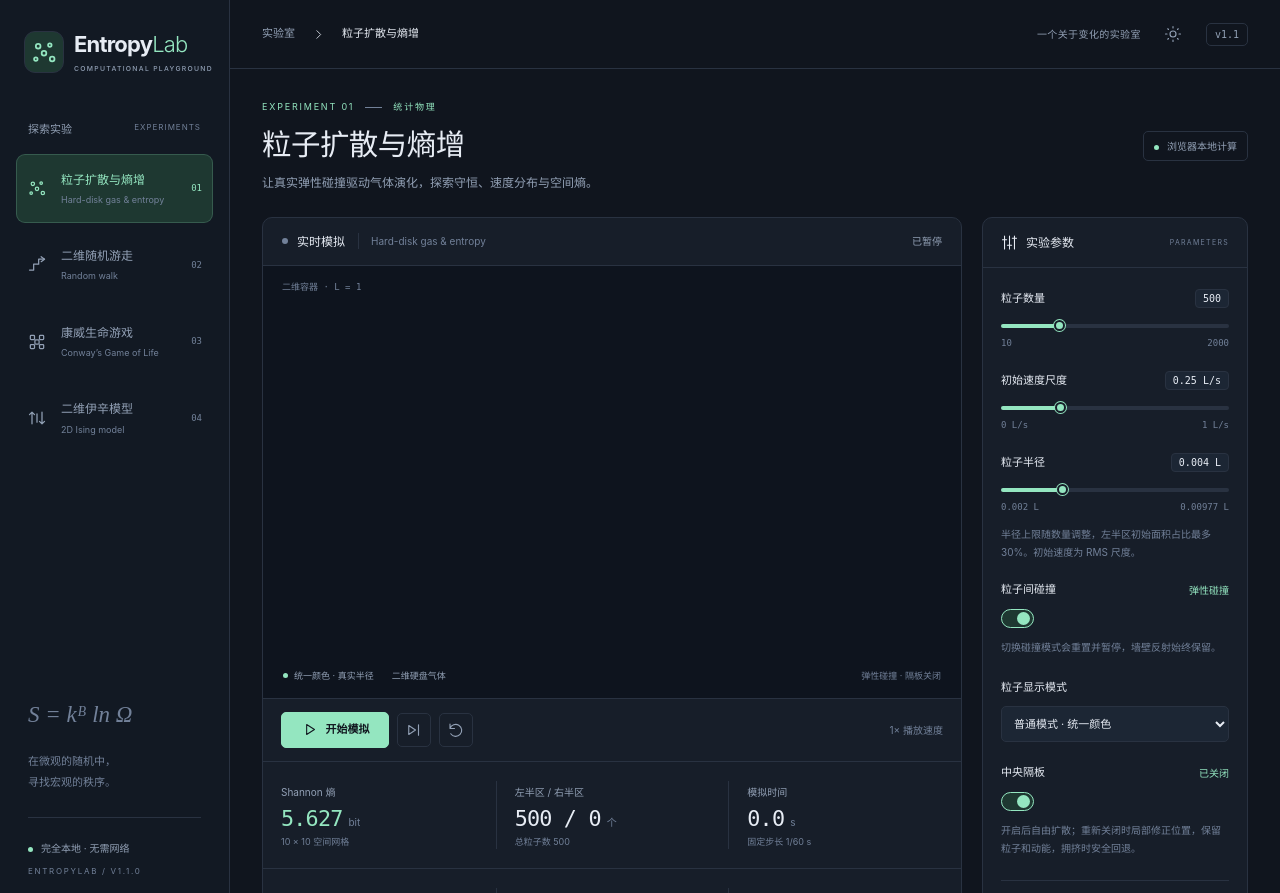
Scenario: application interaction › switches theme and stores the preference; experiments switch cleanly
Click the button named "切换浅色主题". click: {"x": 1173, "y": 34}
box: top-left (1158, 18), bottom-right (1189, 50)
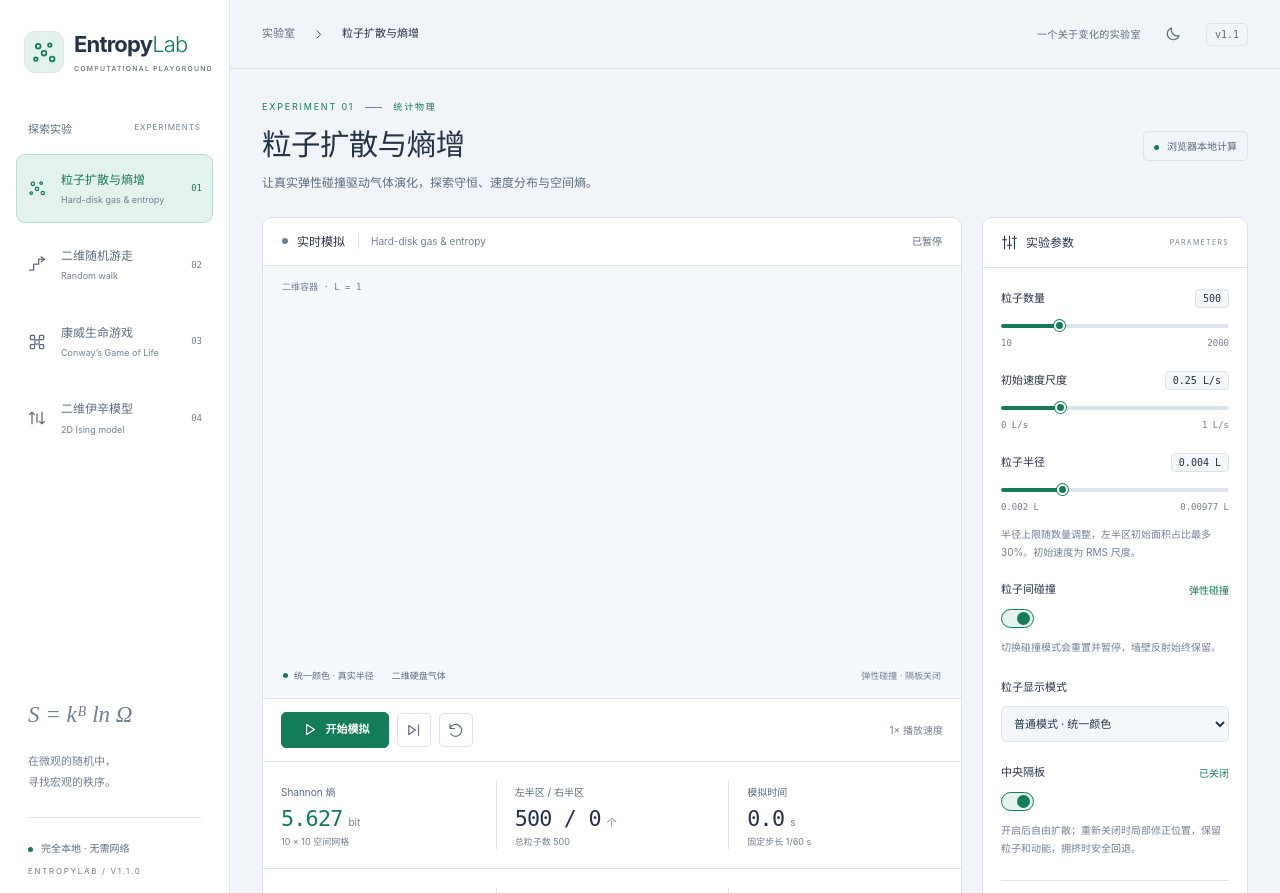
Click the button "二维随机游走 Random walk 02". click: {"x": 114, "y": 265}
box: top-left (16, 230), bottom-right (213, 300)
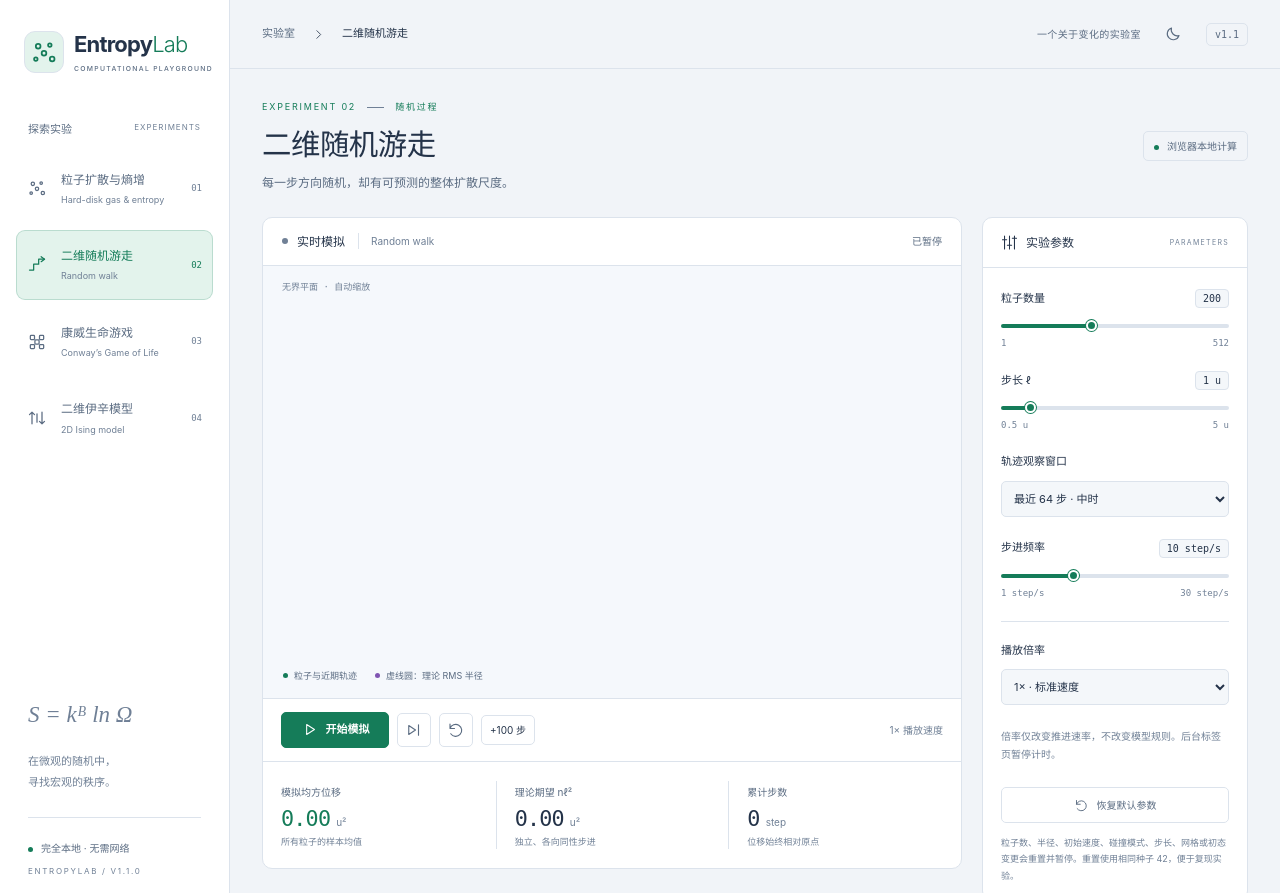
Click the button "开始模拟". click: {"x": 335, "y": 730}
box: top-left (281, 712), bottom-right (389, 748)
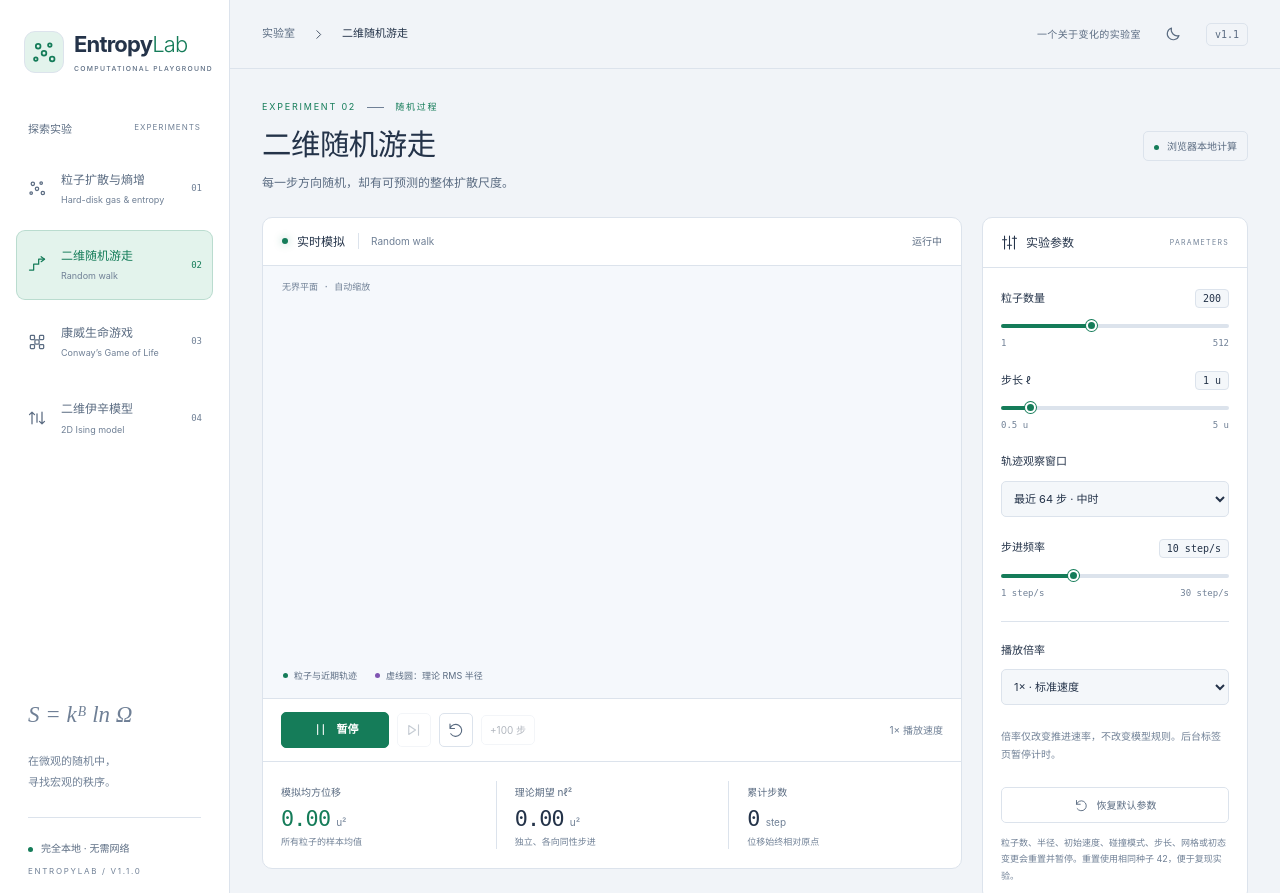
Click the button "粒子扩散与熵增 Hard-disk gas & entropy 01". click: {"x": 114, "y": 188}
box: top-left (16, 154), bottom-right (213, 223)
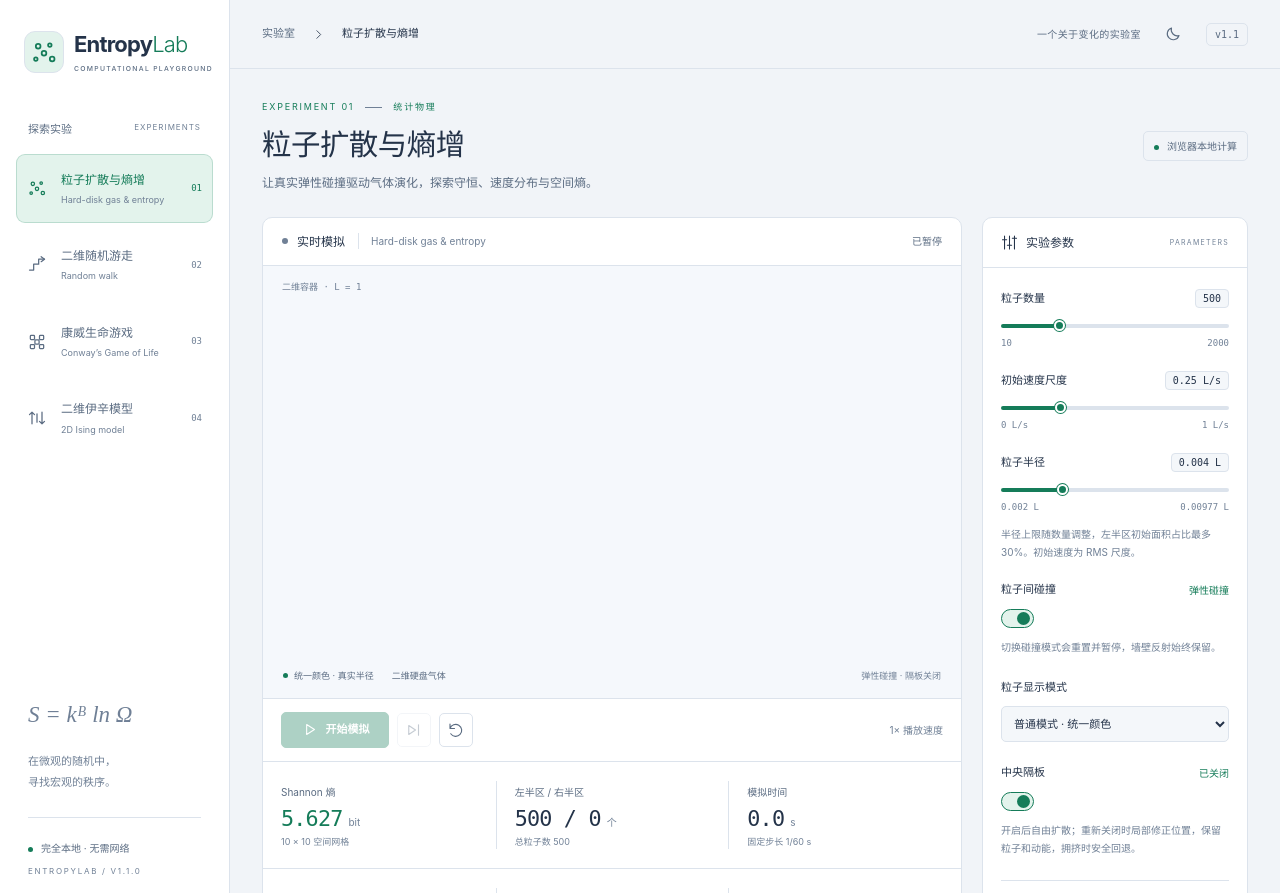
Expected: the message named "模拟状态" reads "已暂停", top-left (912, 235), bottom-right (942, 247)
